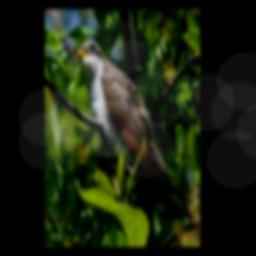Cuckoo: (74, 38, 177, 208)
